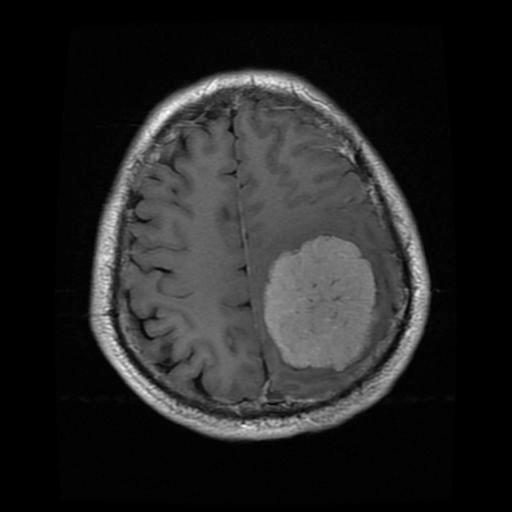Tumour-Meningioma: (248, 232, 389, 375)
